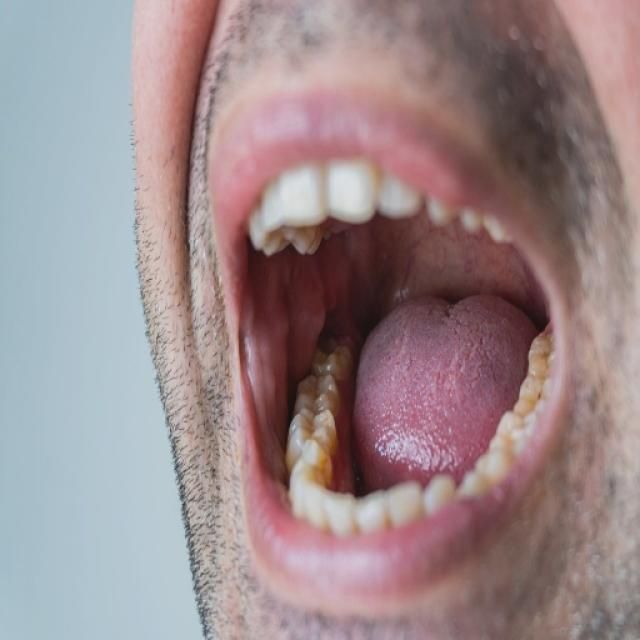processing_area: (248, 224, 545, 480)
